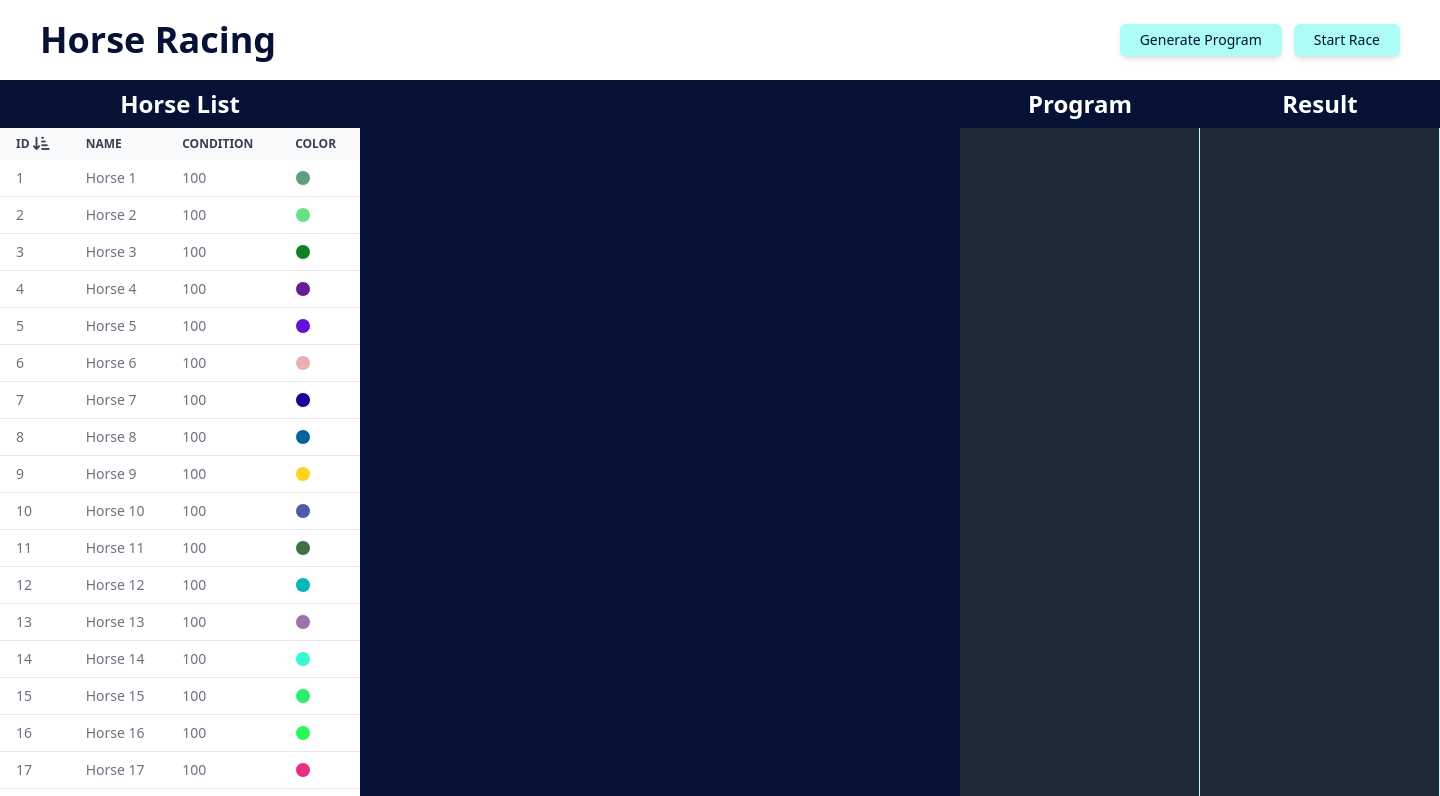
Scenario: Lap Component › should click "Generate Program" and verify lap name
This screenshot has width=1440, height=796.
Click the button "Generate Program" at (1201, 40), box [1120,24,1282,56]
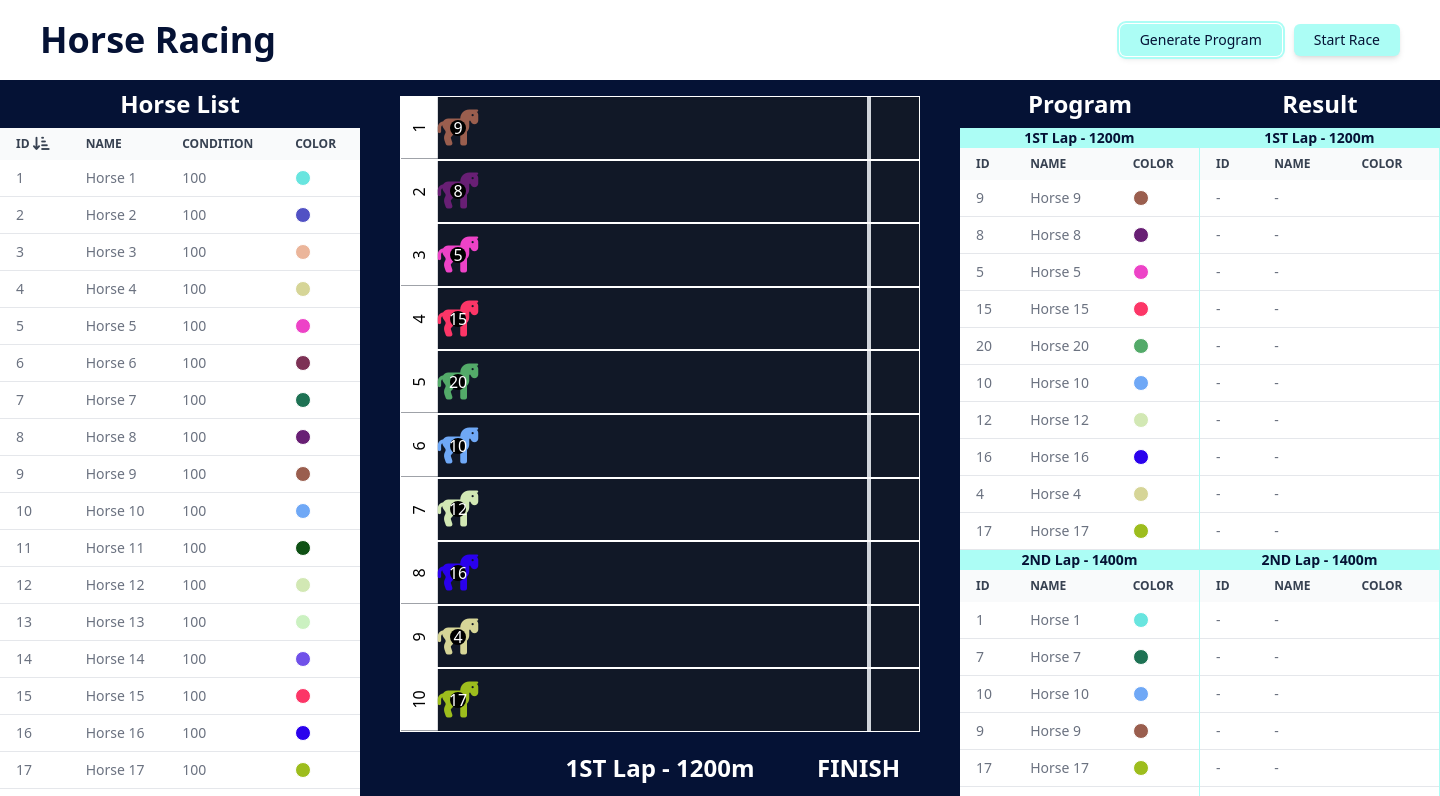
Expected: the heading with class "lap-name" is shown, [566,752,755,784]
Expected: the heading "1ST Lap - 1200m" next to "FINISH" is shown, [565,751,754,784]
